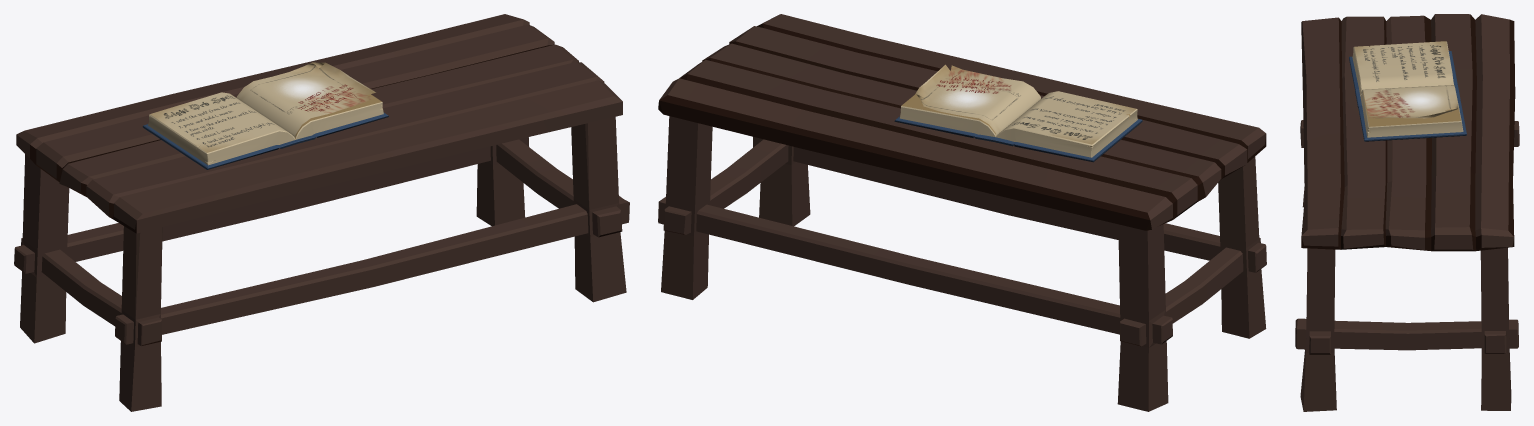
Rendered from Spellbook_and_table01.fbx.
3 views of the same model, side by side, from view 1: azimuth 30°, elevation 25°; view 2: azimuth 150°, elevation 25°; view 3: azimuth 270°, elevation 25° (orthographic). The views are drawn at different scales.
Parts seen in each view (by area): view 1: table01, Spellbook_Book, Spellbook_loosepage; view 2: table01, Spellbook_Book, Spellbook_loosepage; view 3: table01, Spellbook_Book, Spellbook_loosepage.
Boxes of the visible parts, x1,y1,x2,y2 form: table01: (14,14,629,411); Spellbook_Book: (142,92,388,169); Spellbook_loosepage: (236,62,375,138); table01: (658,14,1266,411); Spellbook_Book: (894,91,1142,162); Spellbook_loosepage: (915,64,1040,135); table01: (1295,14,1519,411); Spellbook_Book: (1349,41,1466,141); Spellbook_loosepage: (1361,85,1458,118).
Size of the model in its own units: 126 by 54.29 by 53.57.
